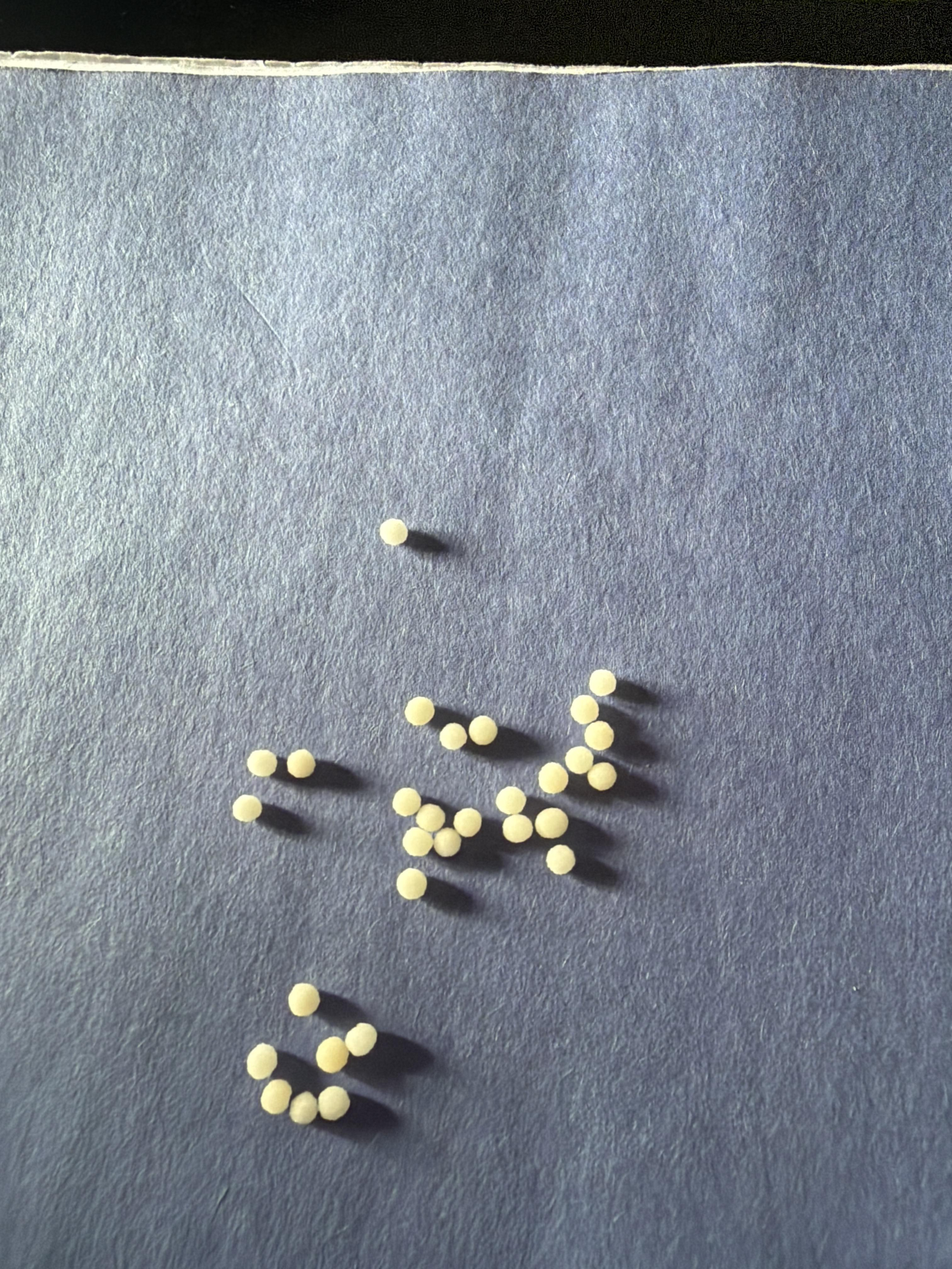pill: (316, 1036, 349, 1073), (246, 1043, 277, 1080), (345, 1022, 377, 1057), (318, 1086, 350, 1121), (260, 1079, 291, 1115), (288, 983, 320, 1017), (535, 807, 568, 839), (396, 868, 427, 900), (402, 826, 433, 857), (538, 762, 568, 794), (289, 1091, 318, 1124), (545, 844, 575, 875), (584, 720, 614, 751), (468, 715, 498, 745), (502, 814, 533, 843), (453, 807, 482, 838), (404, 697, 435, 726), (392, 787, 421, 817), (286, 749, 315, 779), (587, 762, 617, 791), (433, 826, 461, 857), (416, 804, 445, 833), (496, 786, 525, 815), (232, 795, 263, 822), (570, 695, 598, 724), (564, 746, 593, 774), (247, 750, 277, 777), (589, 668, 617, 696), (439, 722, 467, 750), (379, 519, 408, 546)
